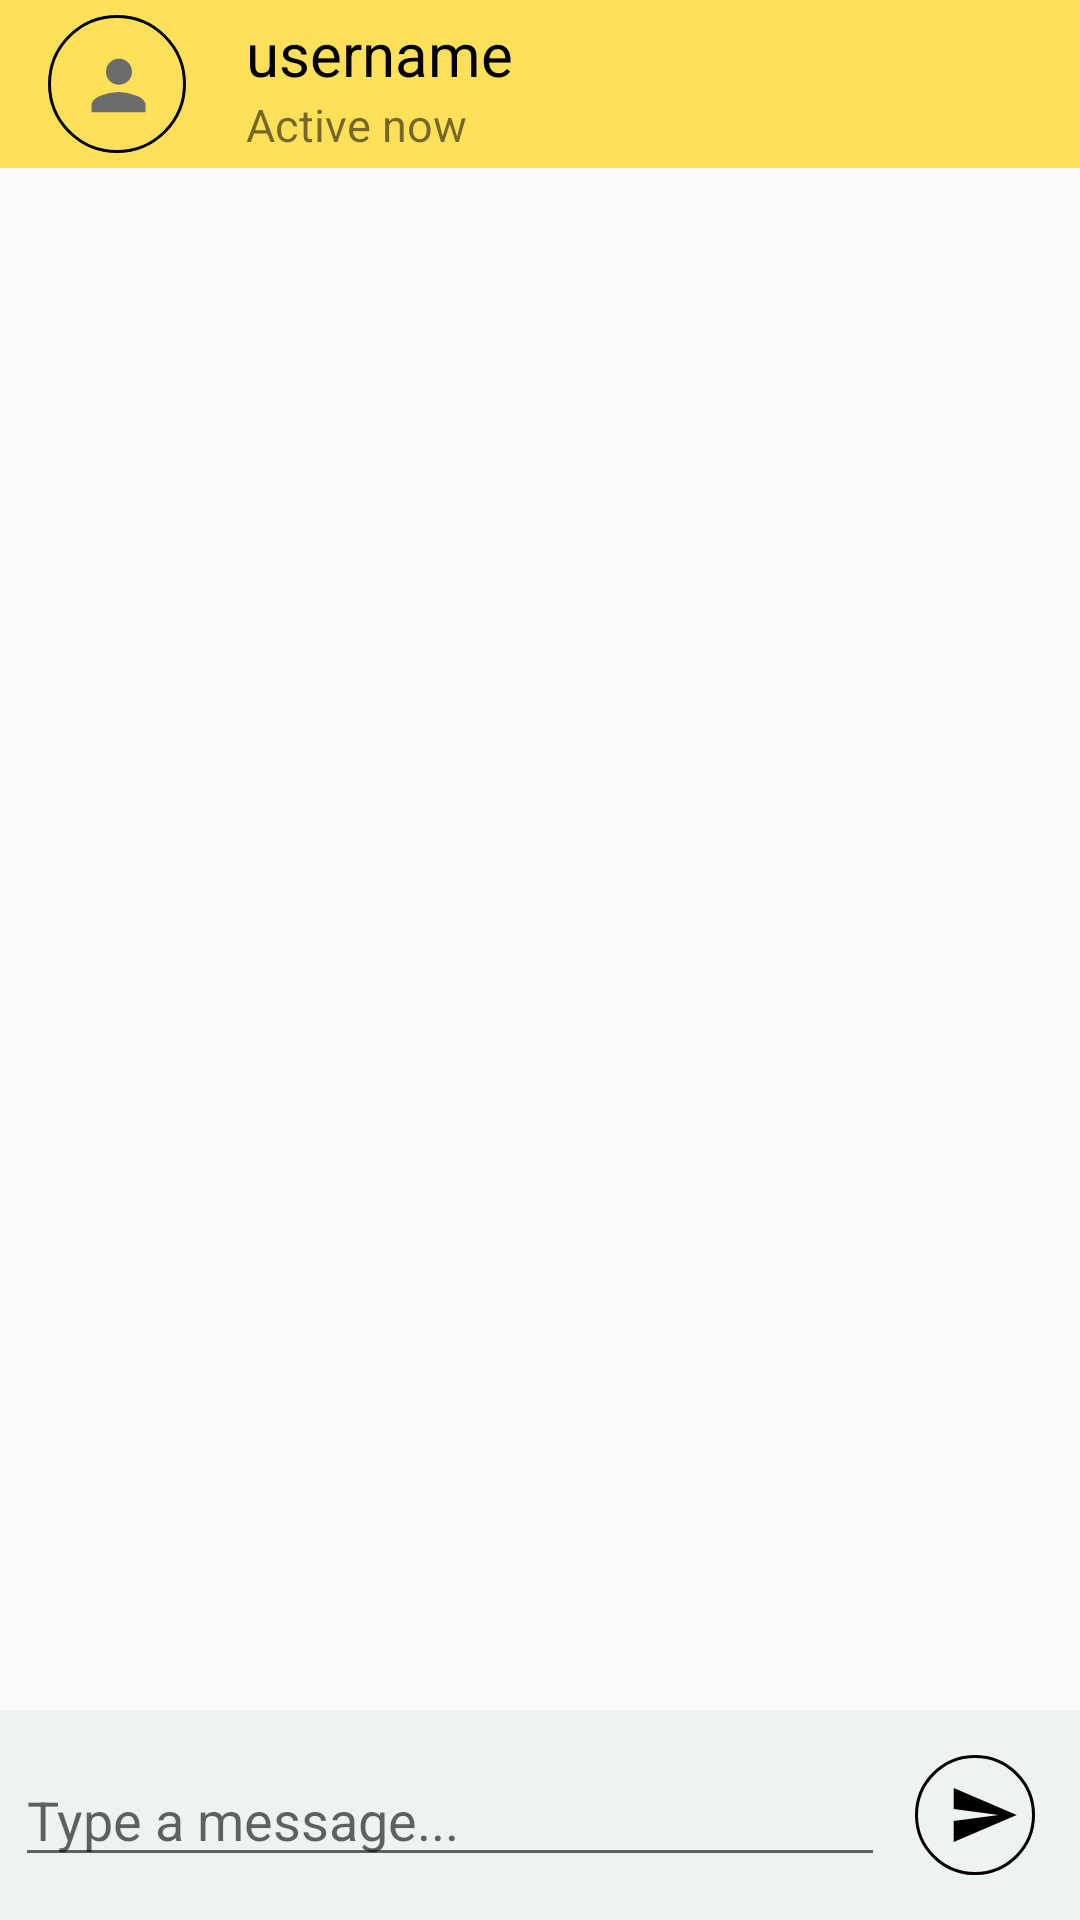

Screen size 1080 x 1920. Icon name, then its box in pixels as [left=x1, top=y1, right=x2, bottom=y2]:
send: [left=915, top=1755, right=1035, bottom=1875]
